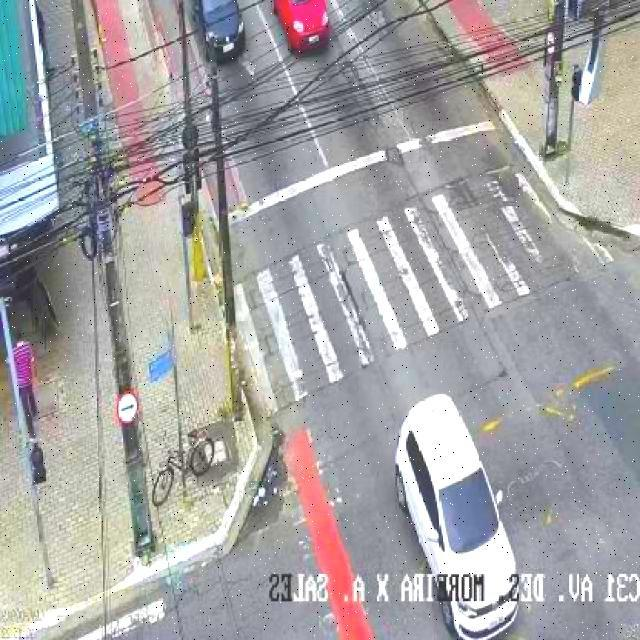Car: (396, 390, 520, 640), (192, 0, 247, 63), (269, 0, 329, 57)
Cycle: (150, 422, 217, 508)
